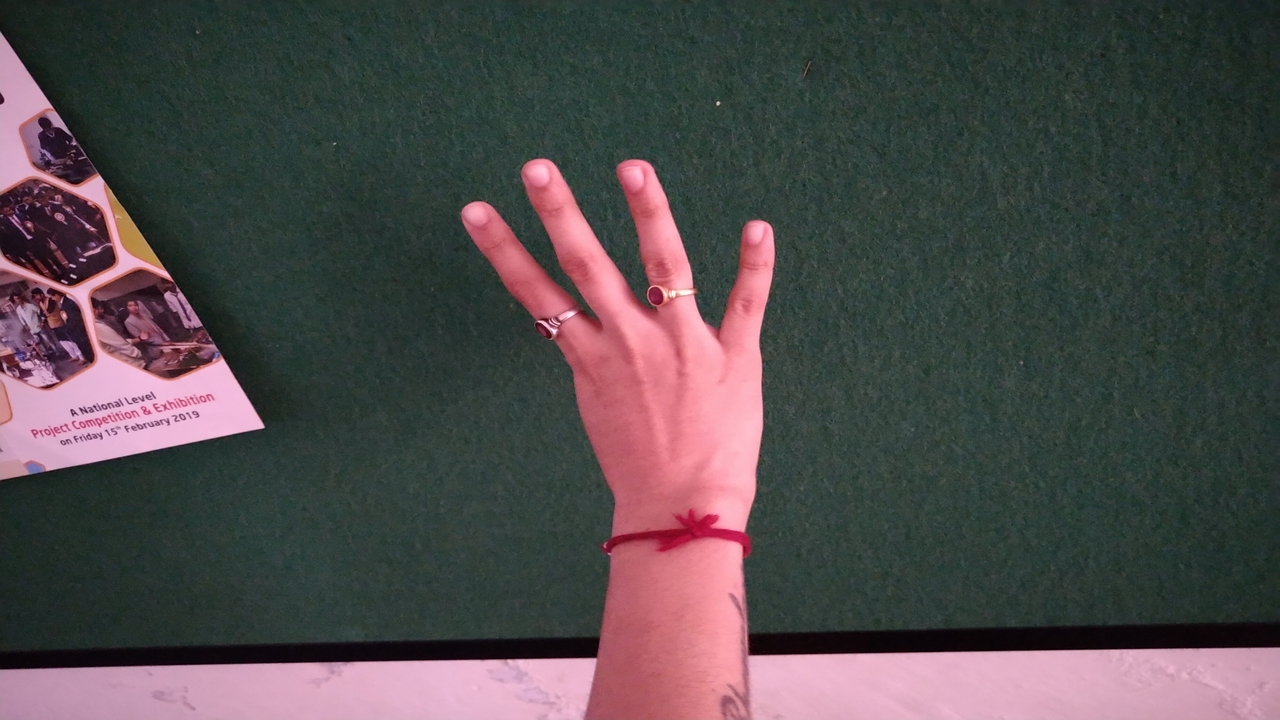fingertip: (506, 148, 572, 204), (606, 150, 668, 204), (450, 186, 506, 242), (732, 204, 784, 258)
